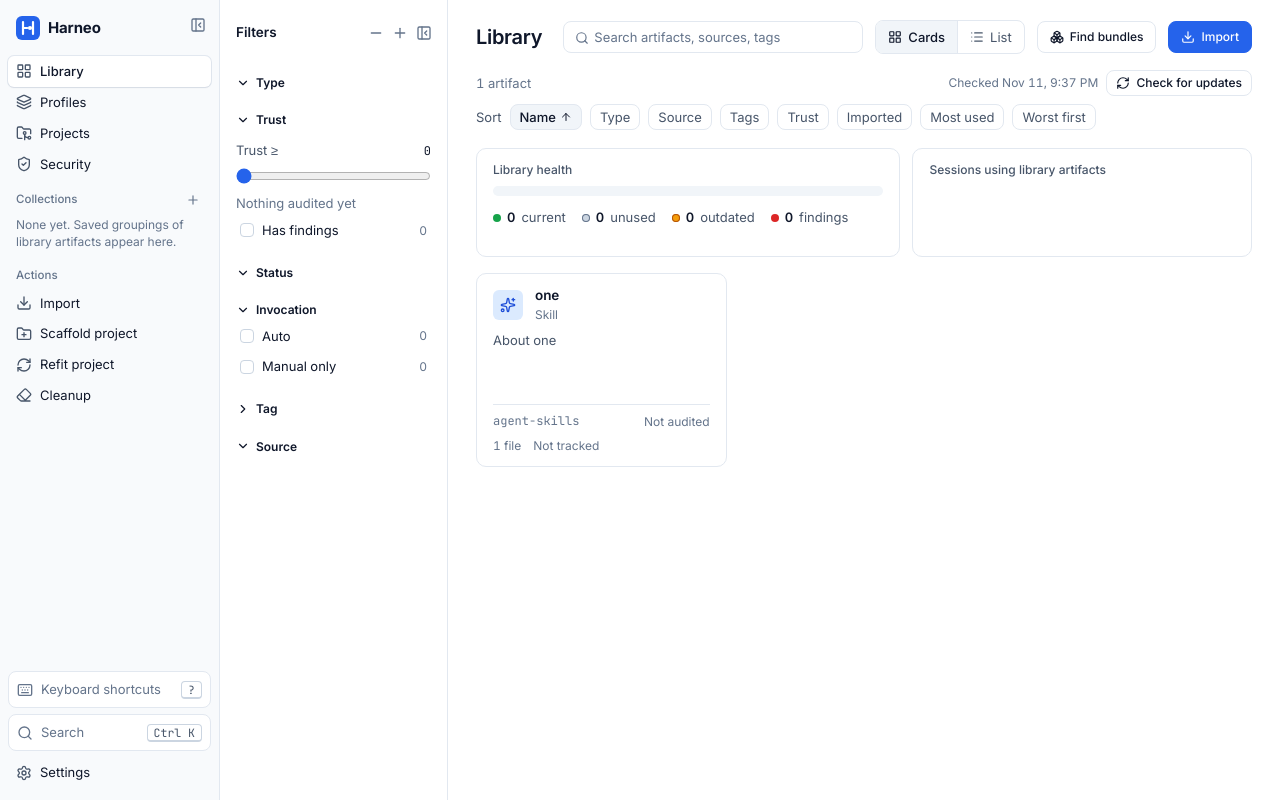
routing › sidebar entry Security routes to its screen
Click the link "Security": (54, 164) [16,156,91,172]
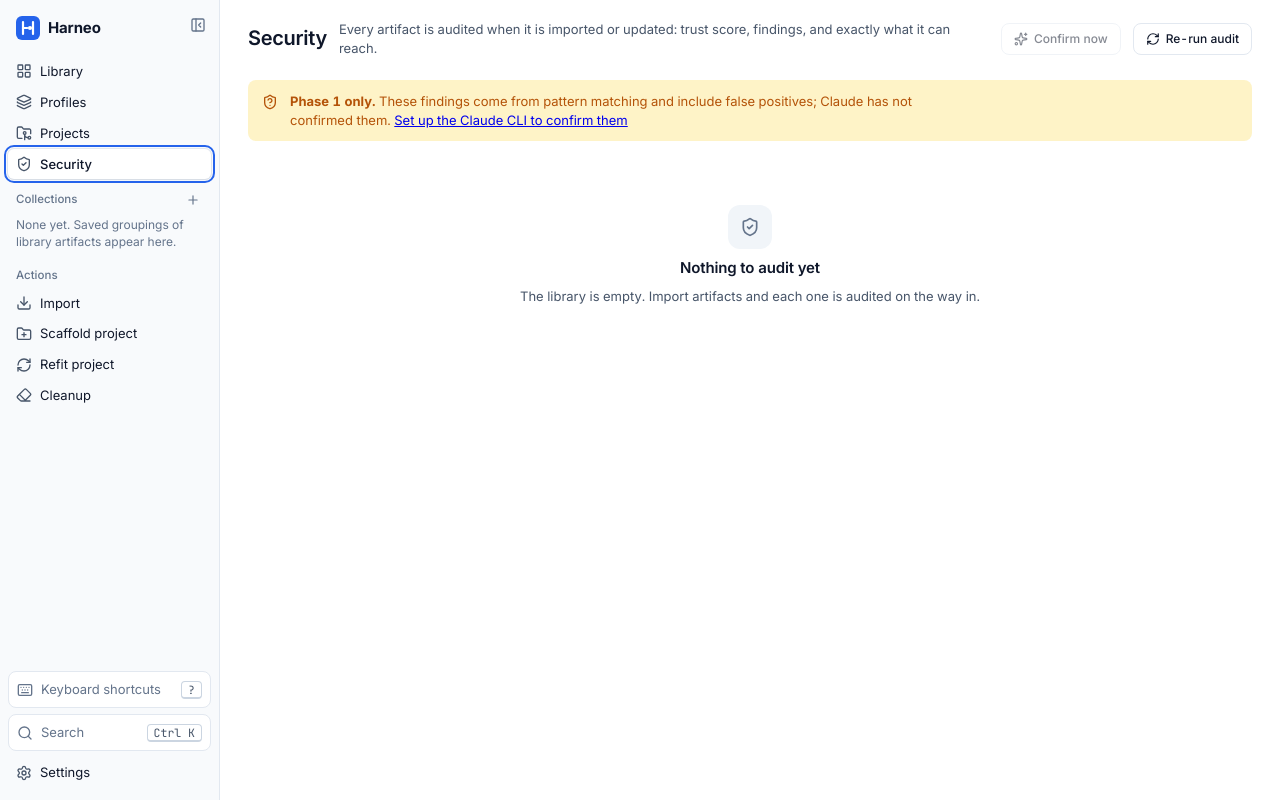
Result: the heading "Security" is shown at [248,24,327,53]
